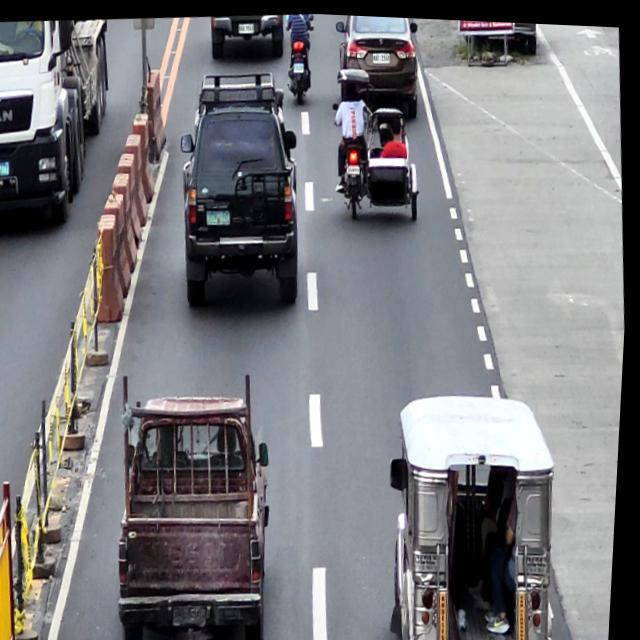Car: (107, 360, 292, 640), (170, 64, 313, 311), (331, 12, 425, 121)
Jeep: (380, 380, 576, 640)
License-Plate: (177, 600, 214, 626), (207, 207, 234, 224), (372, 47, 390, 61), (347, 160, 362, 172), (293, 59, 305, 70)
Motorcycle: (280, 10, 318, 106)
Tricycle: (326, 59, 430, 225)
